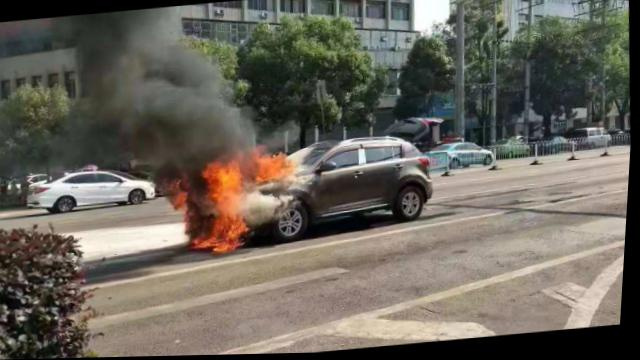fire: (162, 142, 298, 263)
